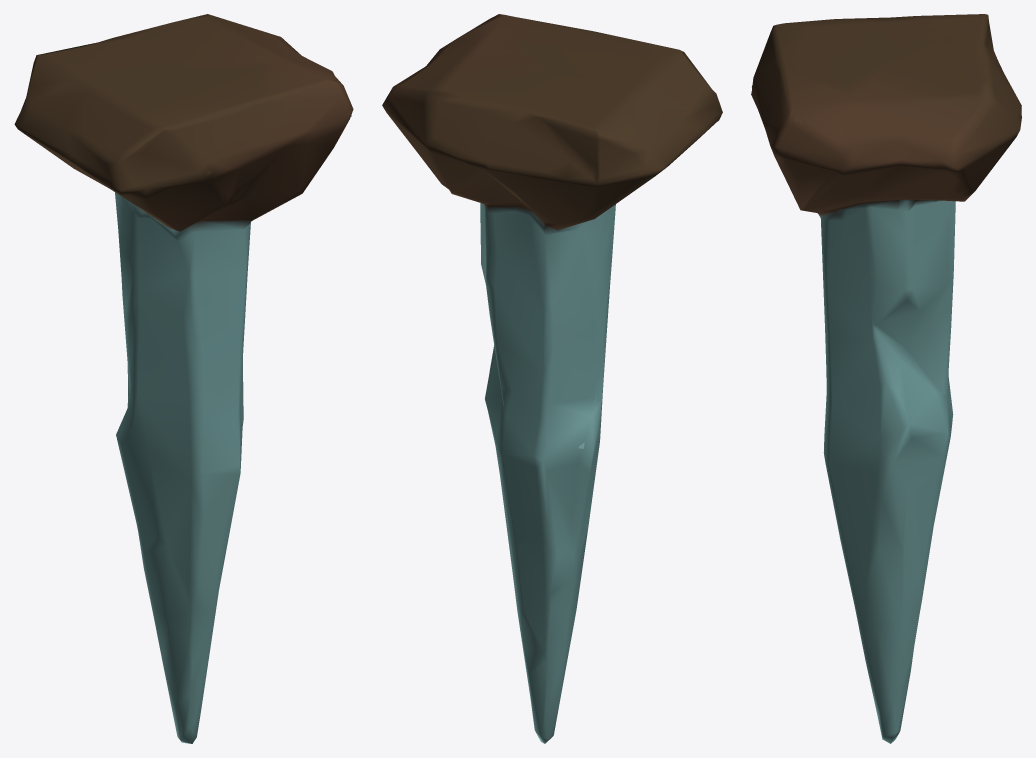
File: gen3d-stalactite-lod0.glb
3 renders of one model, left to right at view 1: azimuth 30°, elevation 25°; view 2: azimuth 150°, elevation 25°; view 3: azimuth 270°, elevation 25°, orthographic.
Parts seen in each view (by area): view 1: part_0; view 2: part_0; view 3: part_0.
Boxes of the visible parts, bbox=[...] form: part_0: bbox=[14, 14, 353, 743]; part_0: bbox=[382, 14, 722, 743]; part_0: bbox=[751, 14, 1021, 743].
Bounding box in the file's own units: 0.4272 × 0.999 × 0.3611.
